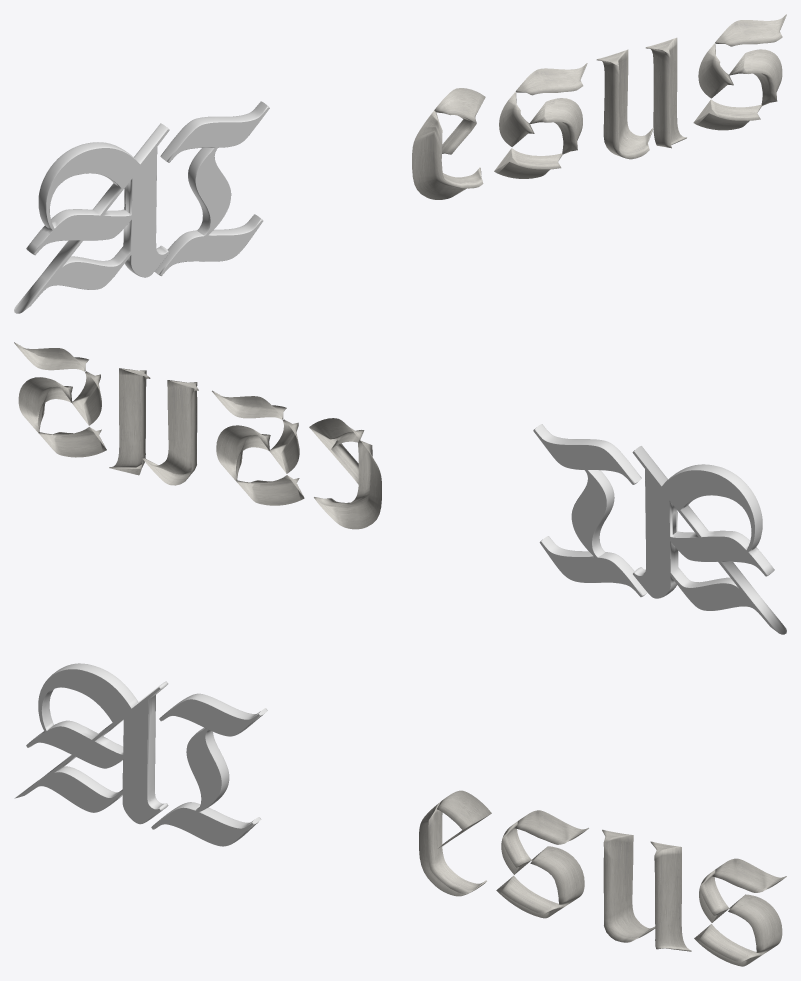
The model's file is titles29.glb.
3 views of the same model, one above another, from view 1: azimuth 30°, elevation 25°; view 2: azimuth 150°, elevation 25°; view 3: azimuth 330°, elevation 25° (orthographic).
Parts seen in each view (by area): view 1: A, I, U, S, S2, E; view 2: A, I, U, S, S2, E; view 3: A, I, U, S, S2, E.
Boxes of the visible parts, x1=… form: A: x1=14, y1=123, x2=169, y2=313; I: x1=154, y1=101, x2=269, y2=276; U: x1=596, y1=37, x2=686, y2=159; S: x1=494, y1=63, x2=587, y2=178; S2: x1=693, y1=14, x2=786, y2=130; E: x1=412, y1=88, x2=485, y2=199; A: x1=632, y1=446, x2=786, y2=634; I: x1=533, y1=424, x2=647, y2=597; U: x1=109, y1=368, x2=198, y2=485; S: x1=212, y1=390, x2=304, y2=505; S2: x1=14, y1=342, x2=106, y2=457; E: x1=309, y1=418, x2=381, y2=529; A: x1=14, y1=663, x2=168, y2=824; I: x1=151, y1=693, x2=267, y2=846; U: x1=602, y1=829, x2=691, y2=951; S: x1=496, y1=810, x2=588, y2=918; S2: x1=694, y1=858, x2=786, y2=966; E: x1=419, y1=790, x2=491, y2=896.
Size of the model in its own units: 0.4323 by 0.0809 by 0.0119.
Materials: 2 (1 with a texture image).
